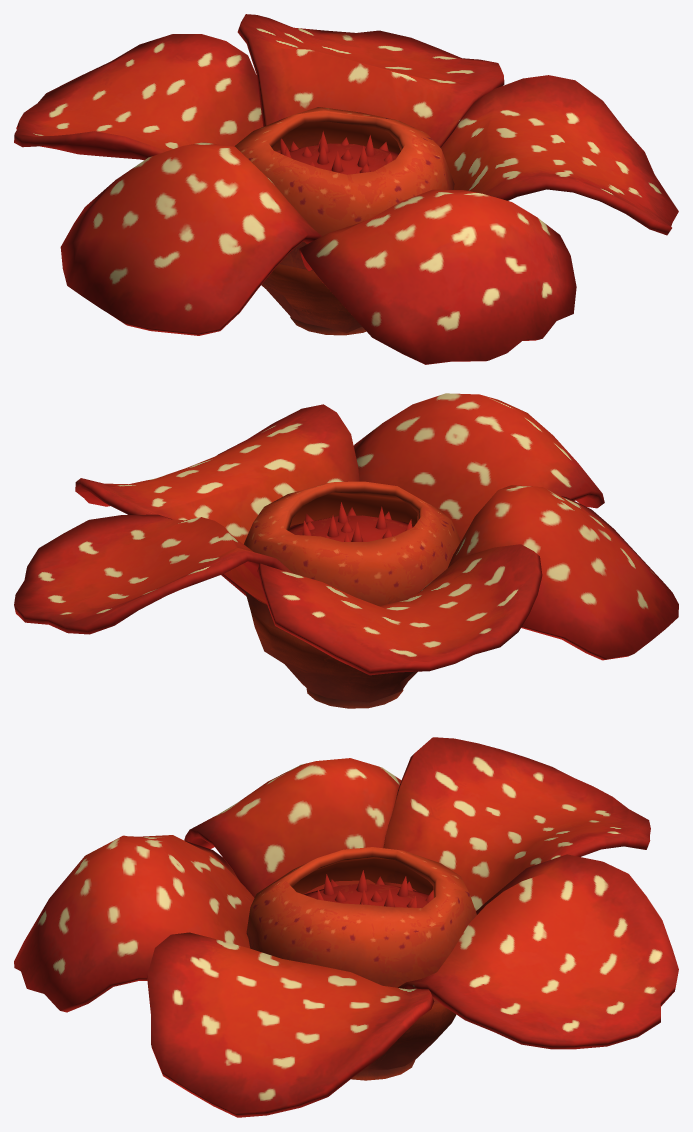
File: Rafflesia.fbx
3 views of the same model, one above another, from view 1: azimuth 30°, elevation 25°; view 2: azimuth 150°, elevation 25°; view 3: azimuth 270°, elevation 25° (orthographic). The views are drawn at different scales.
Visible parts, largest first — view 1: Plane.005, Plane.002, Plane.003, Plane.006, Rafflesia, Plane.004, Cone.026; view 2: Rafflesia, Plane.003, Plane.002, Plane.004, Plane.005, Plane.006, Cone.026; view 3: Plane.006, Plane.004, Plane.003, Plane.005, Rafflesia, Plane.002, Cone.026.
Boxes of the visible parts, x1,y1,x2,y2 form: Plane.005: (299, 189, 576, 364); Plane.002: (60, 142, 321, 335); Plane.003: (14, 34, 263, 160); Plane.006: (441, 75, 678, 235); Rafflesia: (234, 107, 454, 335); Plane.004: (237, 14, 504, 153); Cone.026: (280, 131, 392, 173); Rafflesia: (244, 481, 460, 708); Plane.003: (257, 544, 542, 675); Plane.002: (447, 485, 678, 660); Plane.004: (14, 514, 293, 634); Plane.005: (353, 393, 604, 540); Plane.006: (75, 404, 359, 596); Cone.026: (302, 502, 412, 541); Plane.006: (147, 932, 434, 1117); Plane.004: (398, 854, 678, 1049); Plane.003: (383, 737, 650, 910); Plane.005: (14, 835, 254, 1012); Rafflesia: (246, 847, 476, 1080); Plane.002: (184, 758, 401, 897); Cone.026: (317, 870, 433, 907).
Size of the model in its own units: 1.04 by 0.3852 by 1.04.
